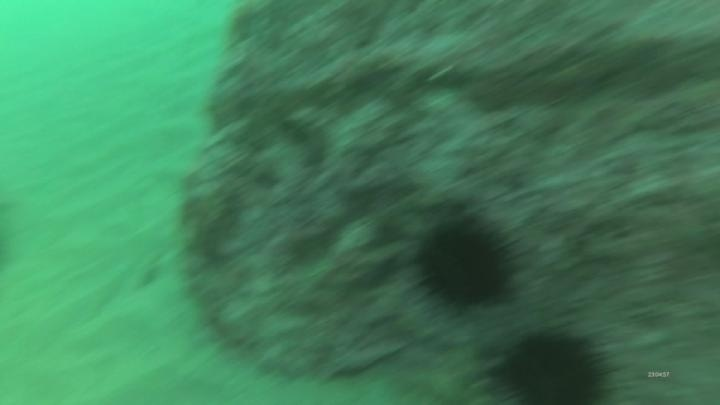echinus: (411, 213, 523, 314), (486, 325, 616, 405)
